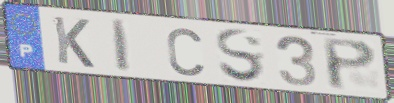3: (274, 34, 317, 87)
C: (164, 25, 206, 78)
I: (109, 18, 133, 75)
K: (50, 14, 97, 70)
P: (320, 36, 380, 92)
S: (213, 27, 268, 85)
